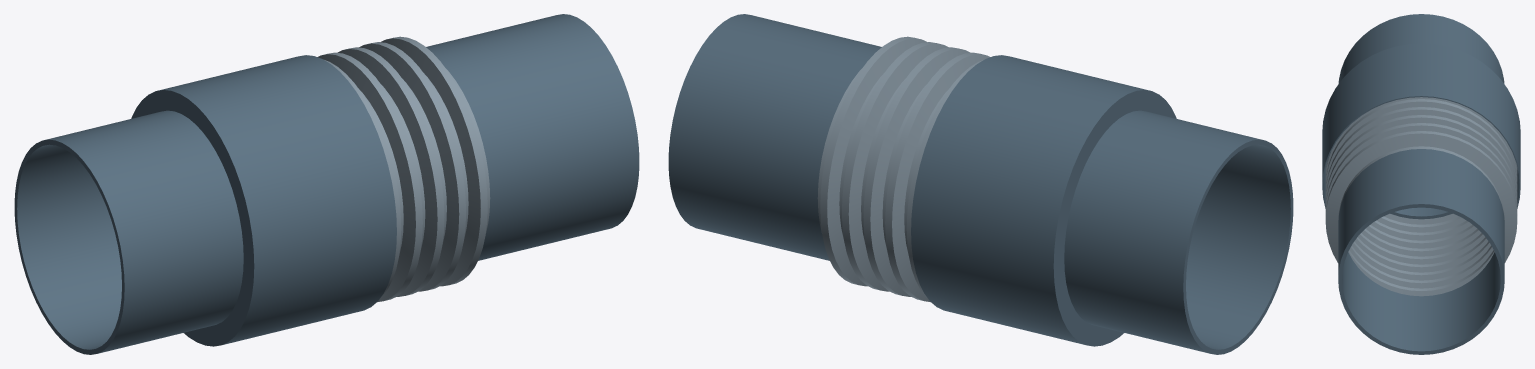
Rendered from silf-dn350-L1017-D377-k-o512.glb.
3 views of the same model, side by side, from view 1: azimuth 30°, elevation 25°; view 2: azimuth 150°, elevation 25°; view 3: azimuth 270°, elevation 25° (orthographic). The views are drawn at different scales.
Visible parts, largest first — view 1: patrubok_1, osnovanie_kozhuh_1, patrubok_2, prokladka_silfon_1; view 2: patrubok_1, osnovanie_kozhuh_1, patrubok_2, prokladka_silfon_1; view 3: prokladka_silfon_1, patrubok_2, osnovanie_kozhuh_1, patrubok_1.
Boxes of the visible parts, <box> form: patrubok_1: <box>14,110,243,354</box>; osnovanie_kozhuh_1: <box>131,55,396,346</box>; patrubok_2: <box>426,14,639,260</box>; prokladka_silfon_1: <box>317,36,490,302</box>; patrubok_1: <box>1064,110,1293,354</box>; osnovanie_kozhuh_1: <box>911,55,1176,346</box>; patrubok_2: <box>668,14,881,260</box>; prokladka_silfon_1: <box>817,36,990,302</box>; prokladka_silfon_1: <box>1325,97,1517,296</box>; patrubok_2: <box>1338,149,1504,354</box>; osnovanie_kozhuh_1: <box>1322,43,1520,208</box>; patrubok_1: <box>1338,14,1504,219</box>.
Size of the model in its own units: 1017 by 449 by 449.
